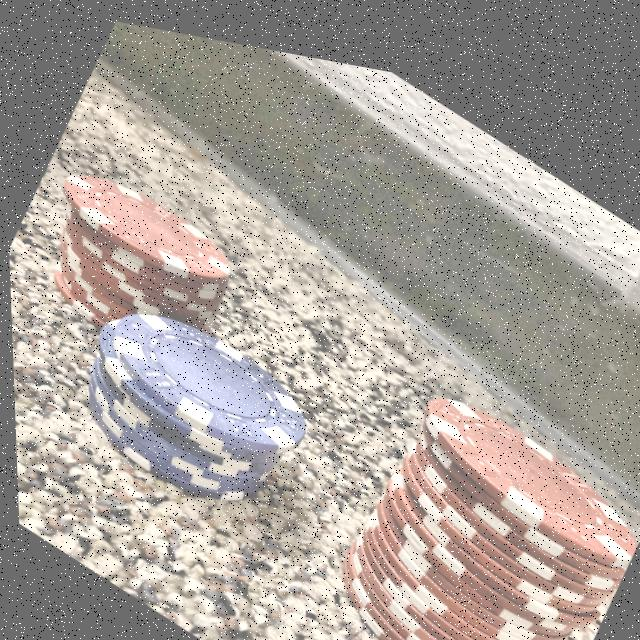Chip: (296, 306, 640, 640), (29, 237, 334, 551), (3, 107, 267, 401)
